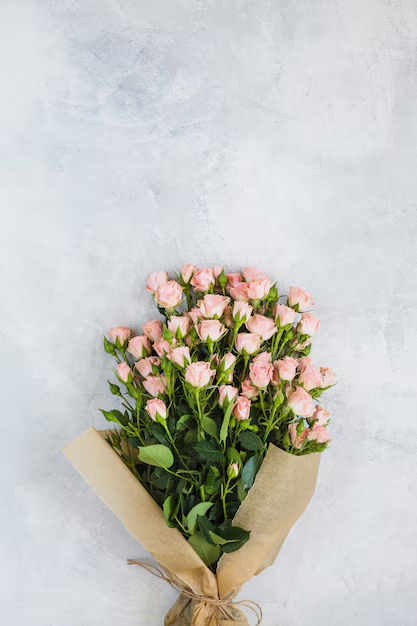Pink: (193, 318, 229, 345), (286, 386, 314, 417), (155, 282, 184, 309), (184, 362, 214, 388), (288, 285, 314, 313), (142, 398, 168, 425), (248, 362, 273, 390), (203, 294, 231, 318), (246, 316, 276, 338), (248, 276, 274, 300), (154, 337, 180, 360), (234, 332, 261, 354), (106, 325, 130, 349), (143, 270, 168, 293), (170, 346, 193, 370), (274, 304, 295, 330), (126, 336, 153, 356), (134, 357, 161, 377), (142, 376, 169, 396), (233, 300, 253, 327), (298, 312, 320, 335), (193, 268, 214, 292), (141, 321, 166, 341), (168, 314, 189, 337), (302, 366, 323, 387), (218, 386, 238, 408), (277, 358, 296, 380), (224, 272, 241, 296), (234, 396, 251, 420), (218, 354, 237, 373), (177, 265, 197, 283), (309, 425, 327, 444), (118, 360, 132, 381)
